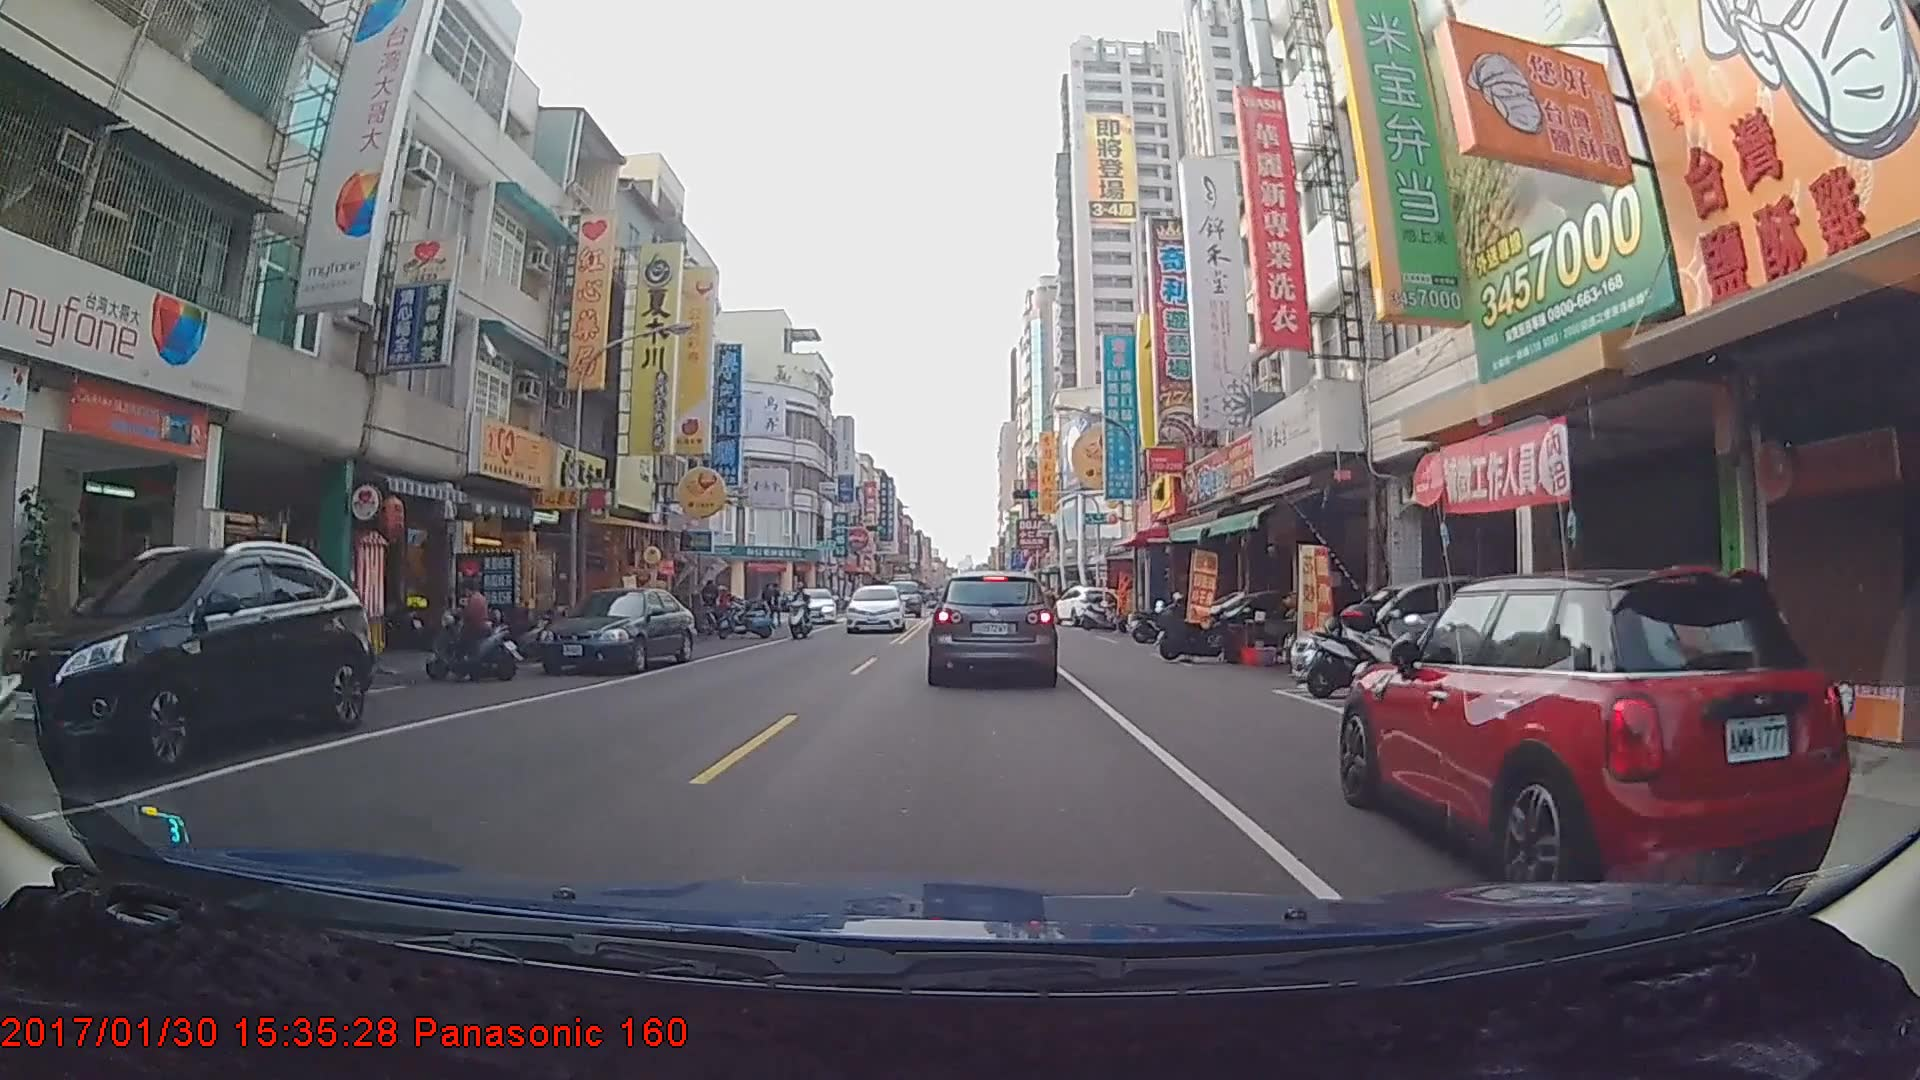rider: (420, 571, 533, 687), (784, 584, 813, 639)
vehicle: (1340, 564, 1849, 906), (0, 546, 371, 777), (928, 568, 1055, 683), (533, 588, 697, 671), (1052, 581, 1120, 627), (843, 584, 903, 633), (787, 581, 835, 619)
